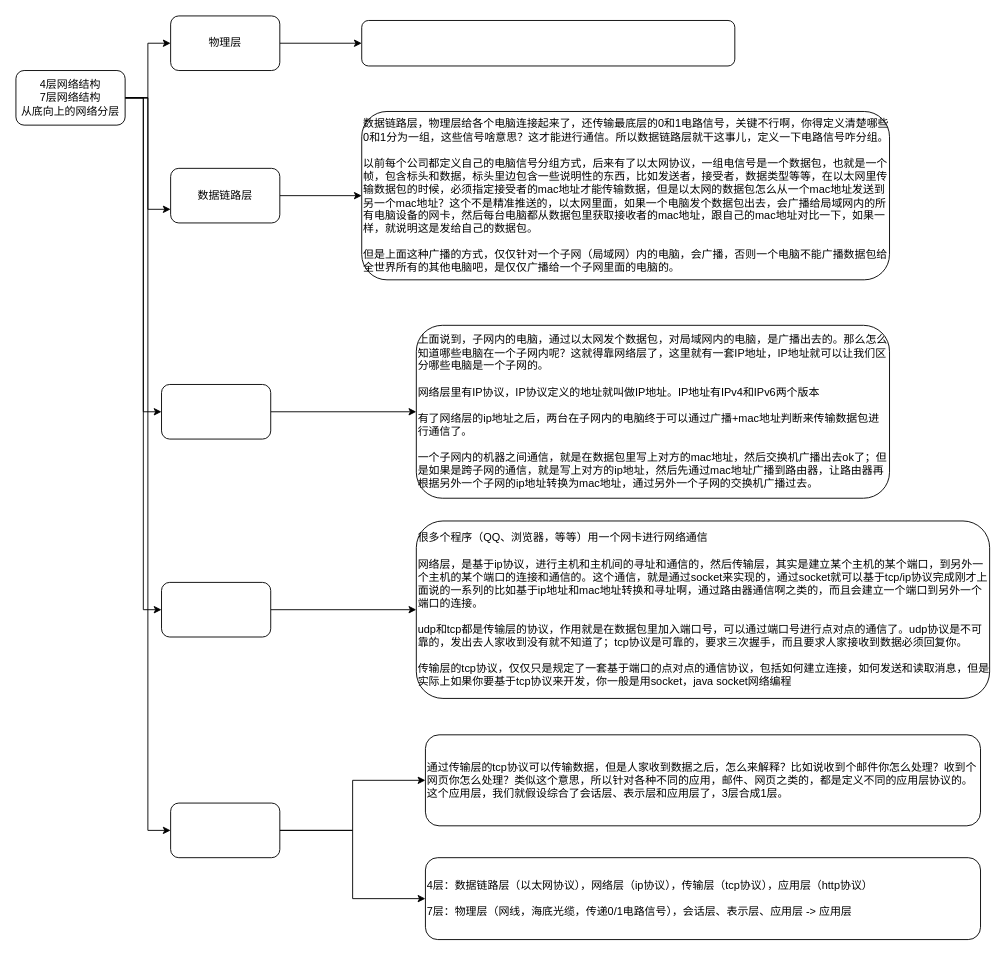
The diagram is 1006 pixels wide and 956 high, and some of its shapes have lost their labels. The shapes that lost their labels are listed below. From the top down, each one's centre as x and y in pixels, then its label:
At point 548,43: "物理层给各个电脑连接起来（网线或者wifi），还传输最底层的0和1电路信号".
At point 216,411: "网络层".
At point 216,609: "传输层".
At point 225,830: "应用层".
